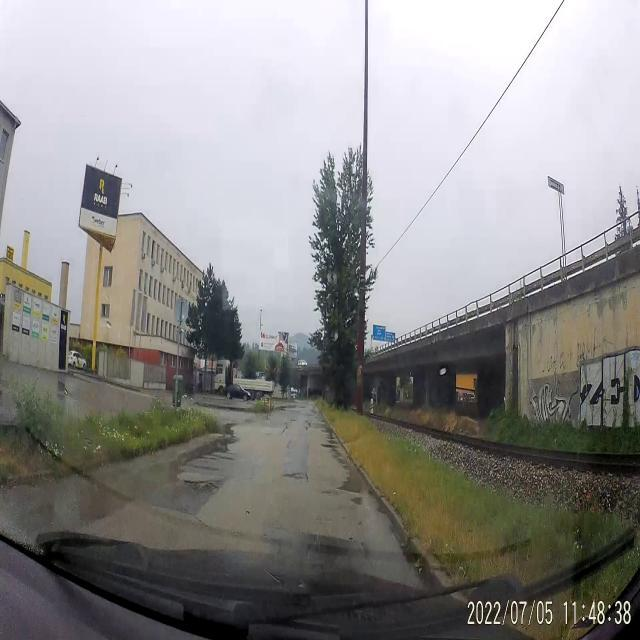Pothole: (177, 470, 222, 500), (279, 462, 310, 492)
